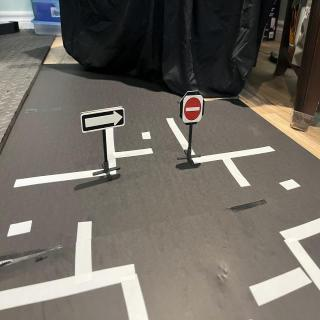sign_noentry: (183, 96, 205, 126)
sign_oneway_right: (81, 107, 127, 135)
